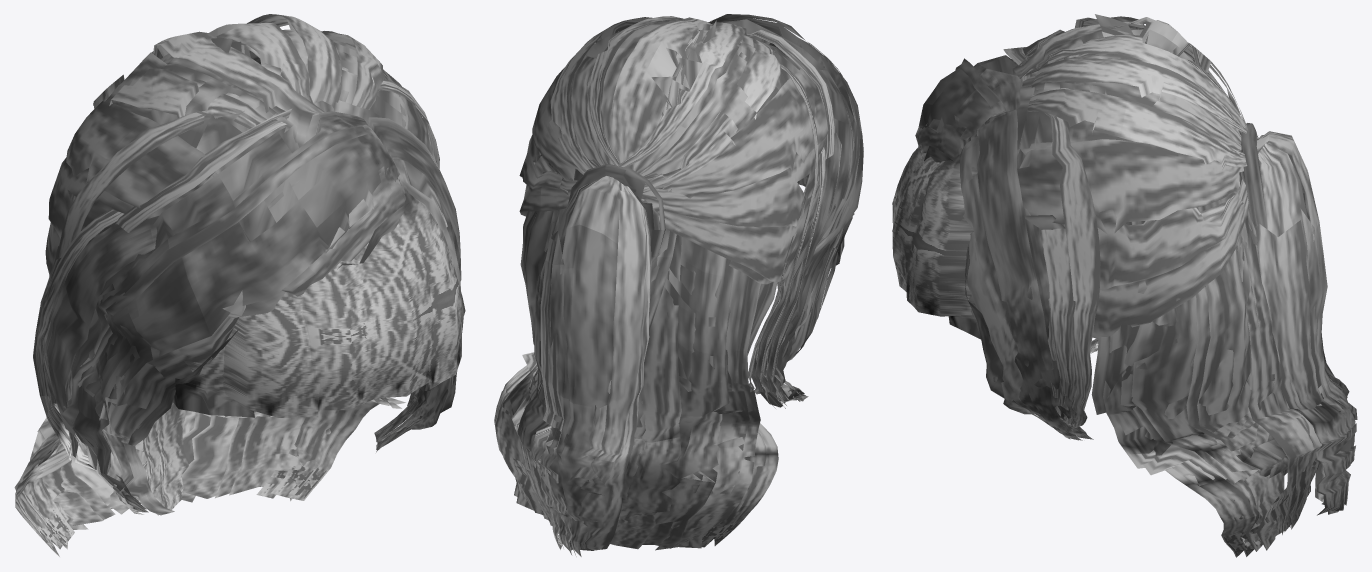
File: hair_user_photo.glb
The picture shows the model from 3 angles, left to right: view 1: azimuth 30°, elevation 25°; view 2: azimuth 150°, elevation 25°; view 3: azimuth 270°, elevation 25°; orthographic projection. The views are drawn at different scales.
Visible parts, largest first — view 1: hair_user_photo; view 2: hair_user_photo; view 3: hair_user_photo.
Boxes of the visible parts, box(x1,y1,x2,y2) form: hair_user_photo: box(14, 14, 465, 556); hair_user_photo: box(494, 14, 863, 556); hair_user_photo: box(892, 14, 1357, 557).
Size of the model in its own units: 0.1802 by 0.2747 by 0.2393.
Materials: 1 (1 with a texture image).
